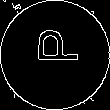P_W: (29, 36, 81, 74)
